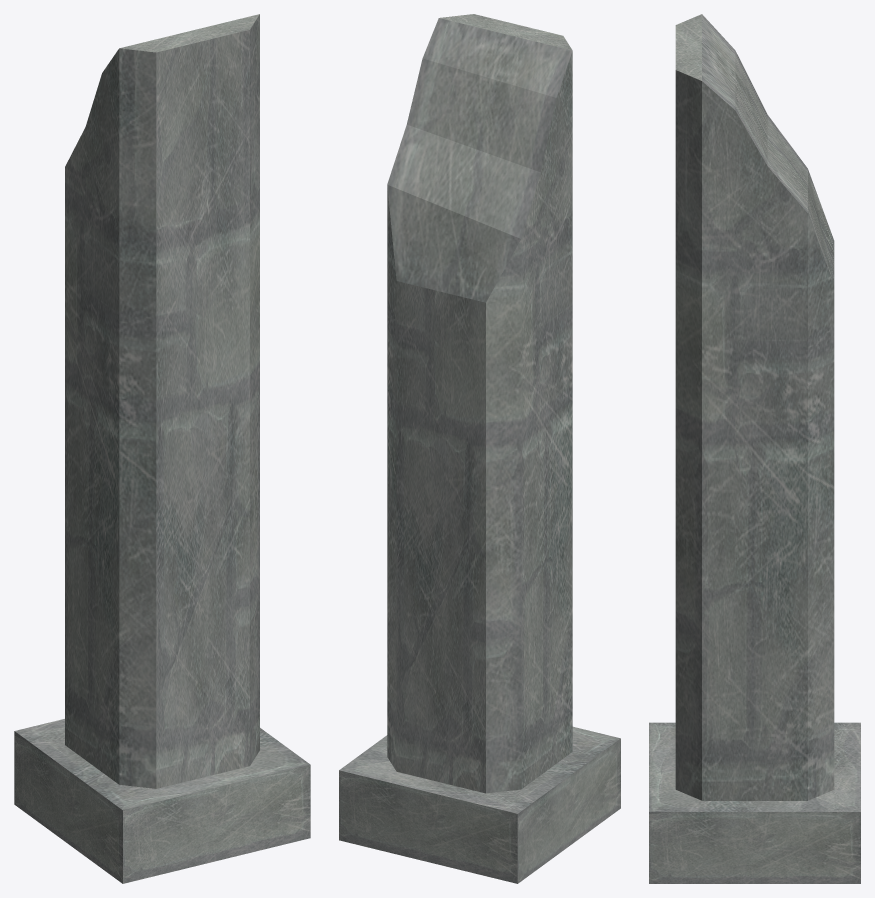
Rendered from ice_broken_pillar.FBX.
3 renders of one model, left to right at view 1: azimuth 30°, elevation 25°; view 2: azimuth 150°, elevation 25°; view 3: azimuth 270°, elevation 25°, orthographic. The views are drawn at different scales.
Parts seen in each view (by area): view 1: broken_pillar001; view 2: broken_pillar001; view 3: broken_pillar001.
Part boxes in pixels (x1,y1,x2,y2): broken_pillar001: (14,14,310,883); broken_pillar001: (339,14,620,883); broken_pillar001: (649,14,860,883).
Size of the model in its own units: 8 by 33 by 8.
Materials: 1 (1 with a texture image).
